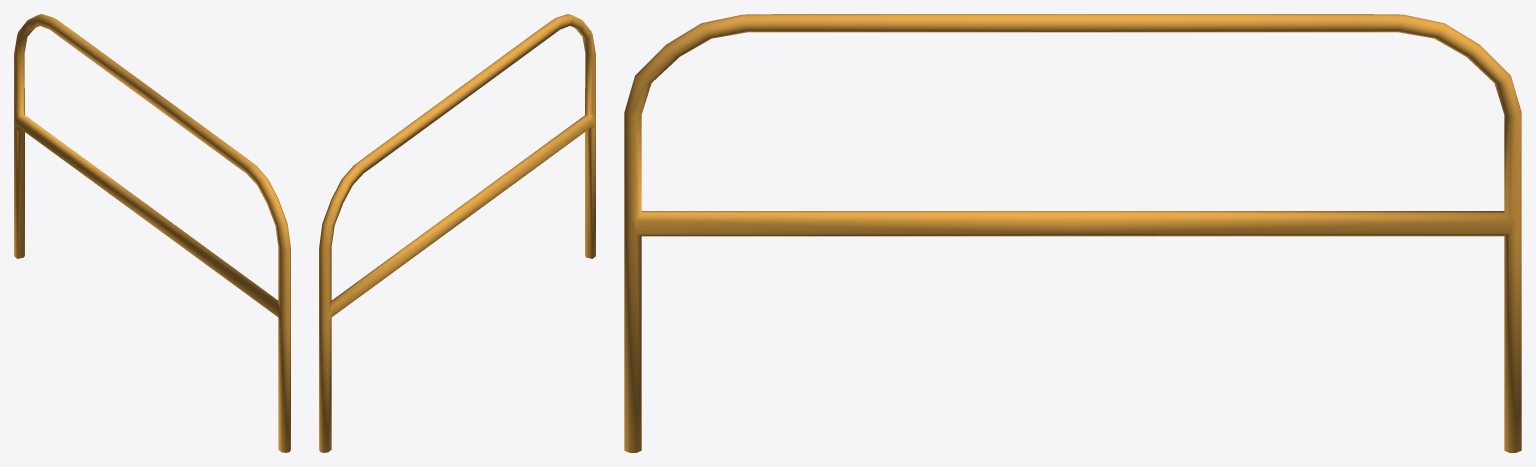
File: railing_1.fbx
3 views of the same model, side by side, from view 1: azimuth 30°, elevation 25°; view 2: azimuth 150°, elevation 25°; view 3: azimuth 270°, elevation 25° (orthographic). The views are drawn at different scales.
Parts seen in each view (by area): view 1: railing_1; view 2: railing_1; view 3: railing_1.
Boxes of the visible parts, x1,y1,x2,y2 form: railing_1: [14, 14, 290, 452]; railing_1: [319, 14, 595, 452]; railing_1: [624, 14, 1521, 452].
Bounding box in the file's own units: 14.55 × 403 × 755.
